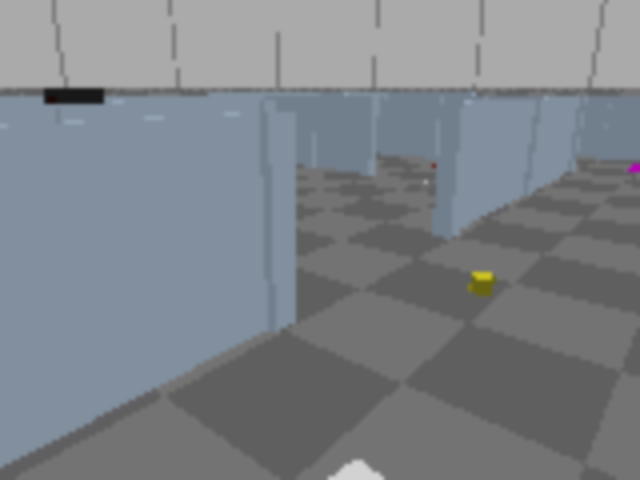puck: (328, 458, 388, 478), (471, 271, 493, 295)
